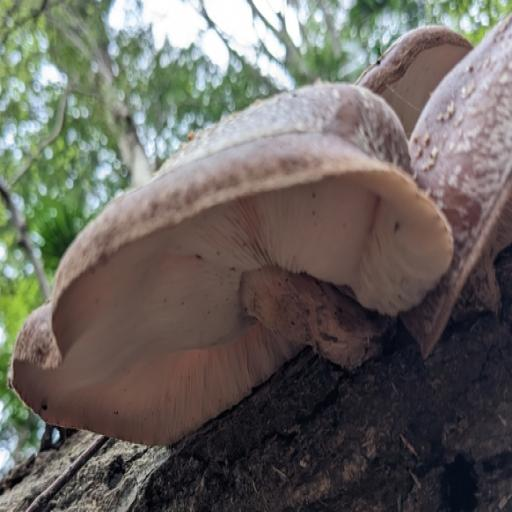Shiitake Mushroom: (0, 16, 512, 473)
